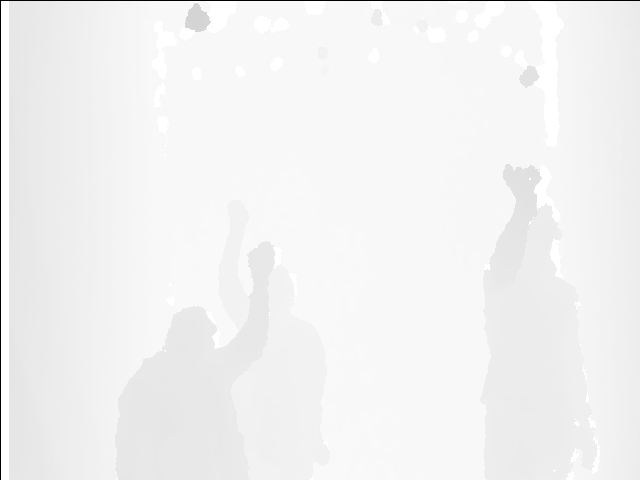hand: (502, 158, 541, 217), (244, 239, 277, 286), (224, 197, 255, 235)
